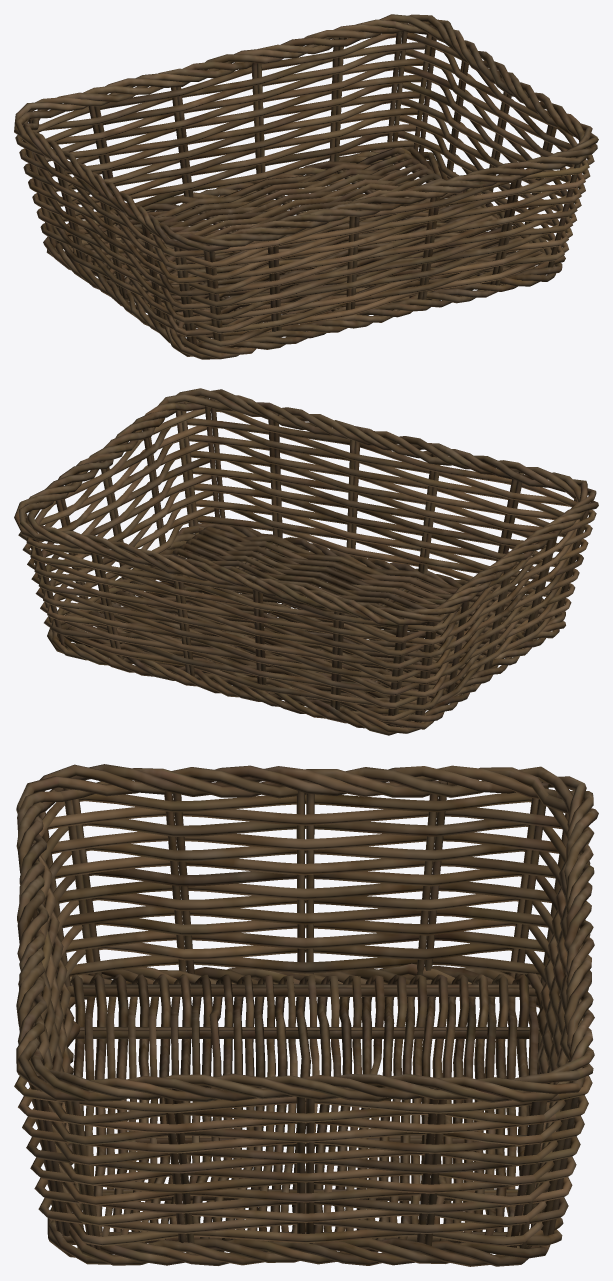
The model's file is wicker_basket_01.glb.
The picture shows the model from 3 angles, top to bottom: view 1: azimuth 30°, elevation 25°; view 2: azimuth 150°, elevation 25°; view 3: azimuth 270°, elevation 25°; orthographic projection. The views are drawn at different scales.
Visible parts, largest first — view 1: Vert.001; view 2: Vert.001; view 3: Vert.001.
Boxes of the visible parts, x1=… form: Vert.001: x1=14, y1=14, x2=598, y2=359; Vert.001: x1=14, y1=388, x2=598, y2=735; Vert.001: x1=14, y1=764, x2=598, y2=1266.
Size of the model in its own units: 0.3832 by 0.1174 by 0.295.
Materials: 1 (1 with a texture image).
